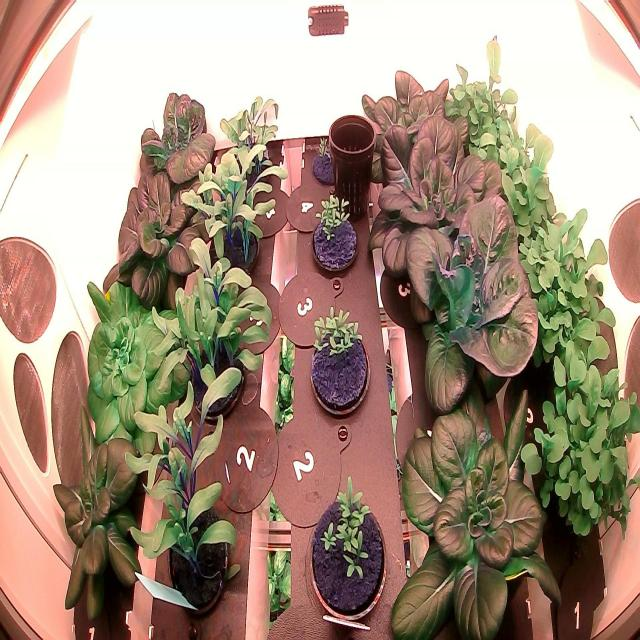germination: (305, 471, 394, 635), (304, 298, 377, 427), (307, 185, 364, 289), (305, 120, 347, 192)
young: (380, 374, 569, 640), (383, 184, 551, 426), (363, 106, 519, 292), (45, 428, 157, 632), (81, 266, 185, 458), (96, 147, 216, 312), (356, 54, 479, 195), (132, 82, 222, 208)
